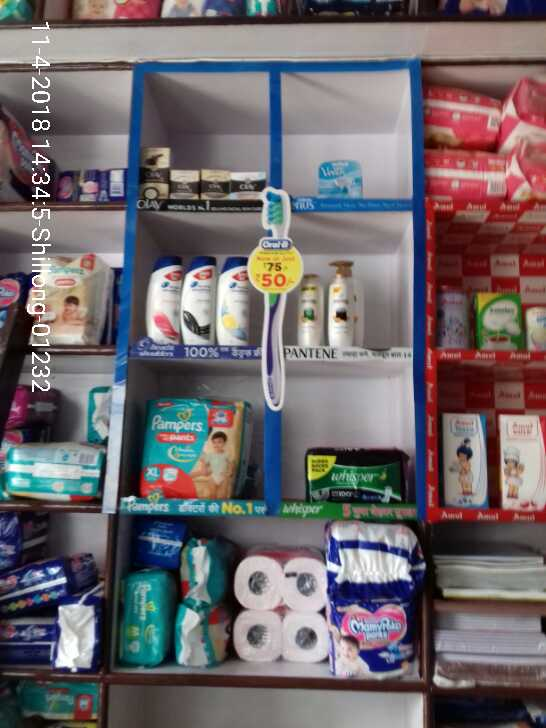venus: (318, 160, 362, 193)
